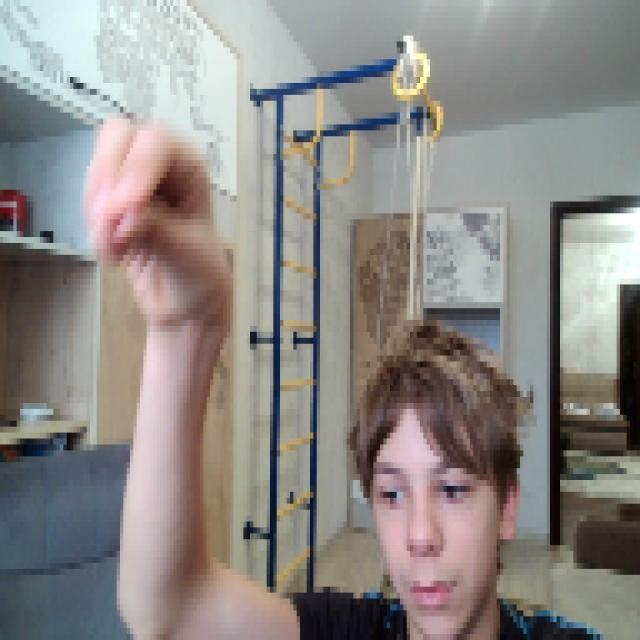left_click: (80, 107, 230, 326)
